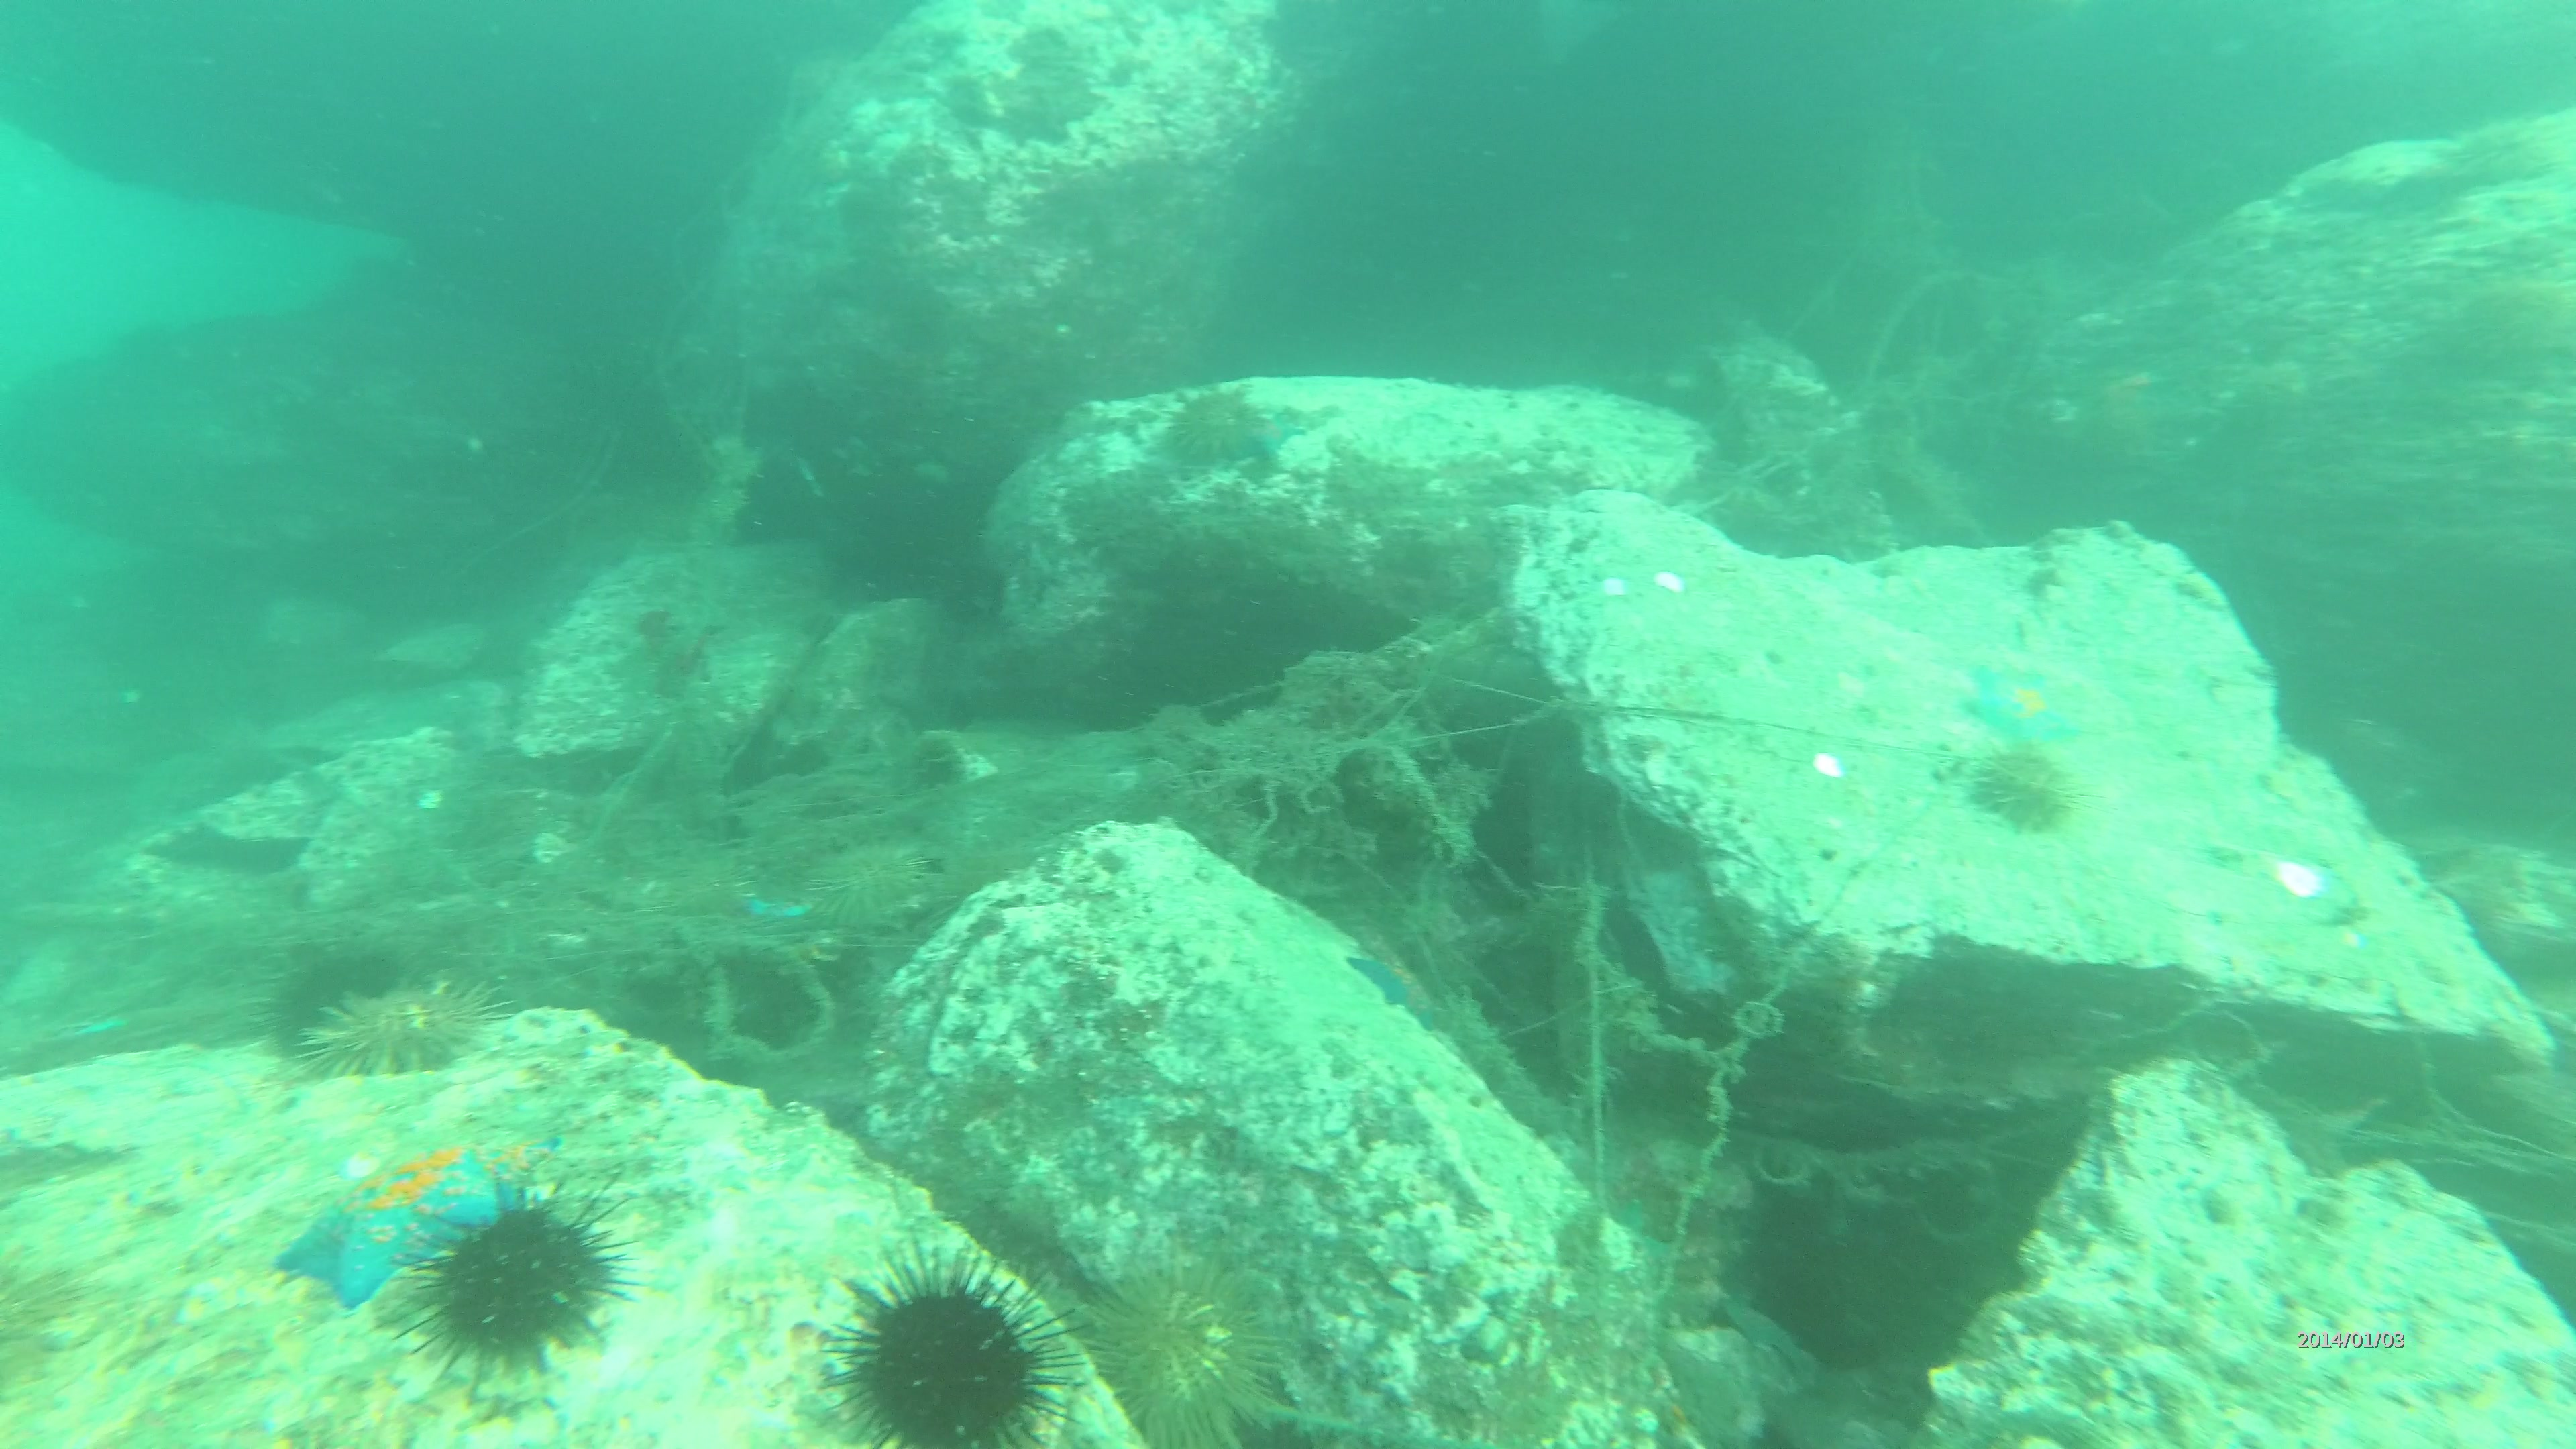echinus: (817, 1263, 1088, 1449), (419, 1196, 617, 1375), (327, 975, 499, 1077), (269, 961, 409, 1067), (807, 842, 927, 925), (1155, 386, 1267, 474), (1974, 754, 2072, 844)
starfish: (290, 1138, 534, 1302), (1962, 655, 2068, 743), (1350, 947, 1445, 1024)
